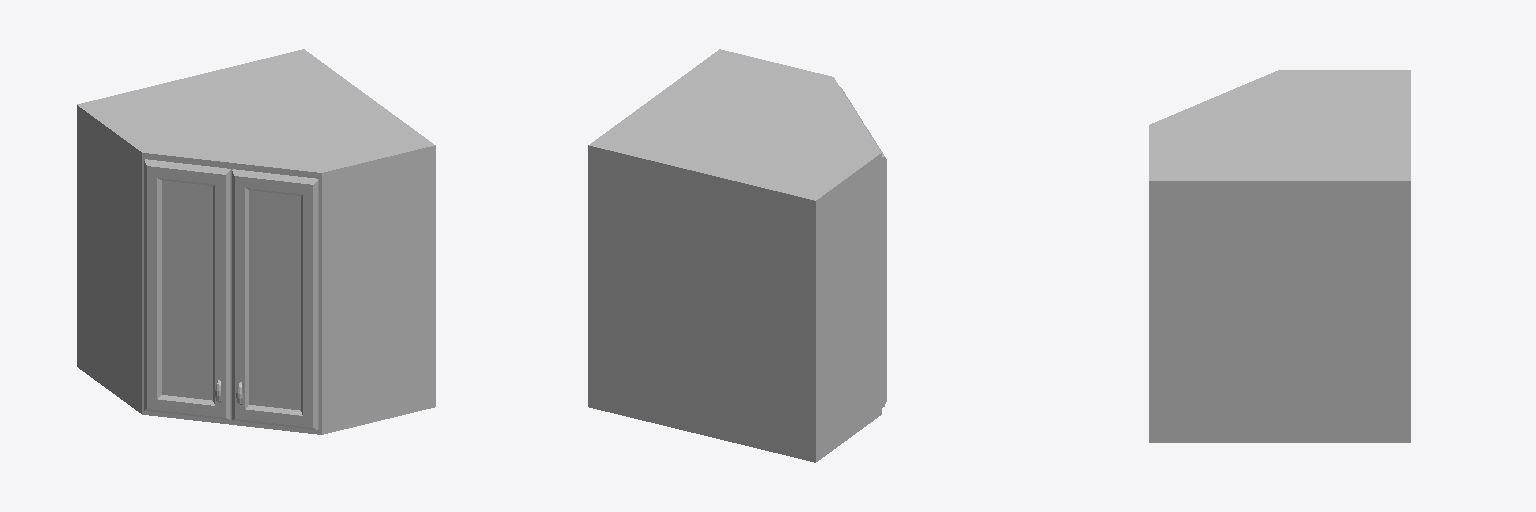
Rendered from Structure_Kitchen_Cabinet_Wall_Corner.obj.
3 renders of one model, left to right at view 1: azimuth 30°, elevation 25°; view 2: azimuth 150°, elevation 25°; view 3: azimuth 270°, elevation 25°, orthographic.
Parts seen in each view (by area): view 1: object1, object2, object3; view 2: object1, object2; view 3: object1.
Part boxes in pixels (x1,y1,x2,y2): object1: (77, 49, 435, 434); object2: (144, 159, 230, 419); object3: (232, 169, 318, 429); object1: (588, 49, 881, 462); object2: (862, 122, 886, 407); object1: (1149, 70, 1410, 442).
Bounding box in the file's own units: 1 × 1.1 × 1.